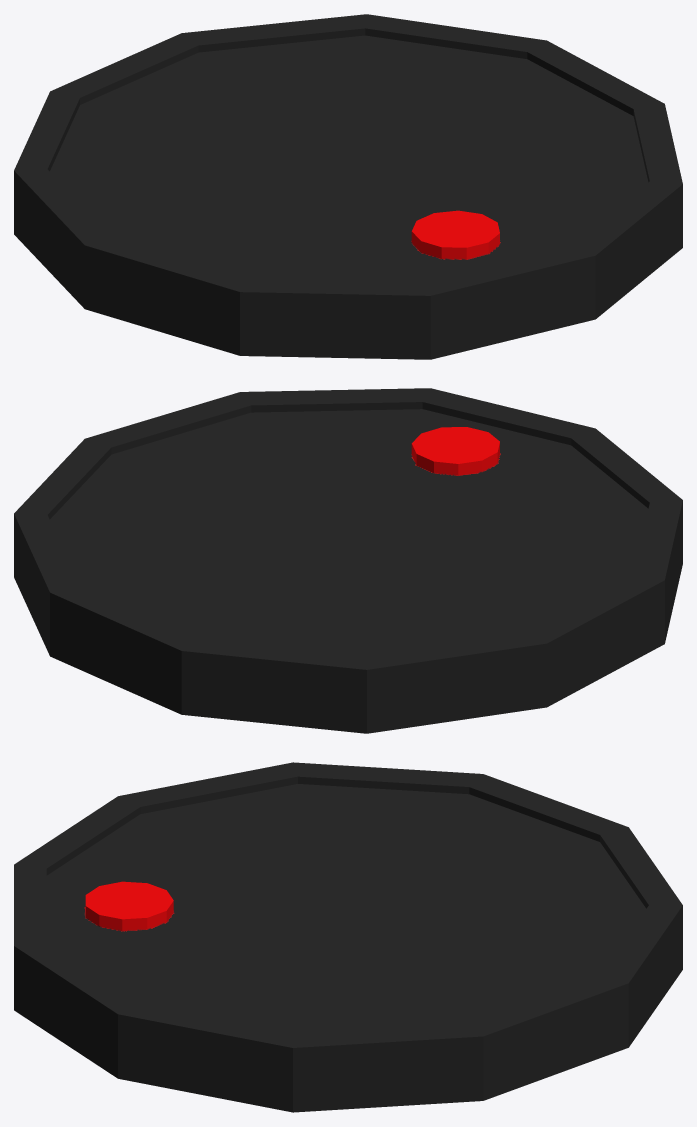
The model's file is VACoomRED.glb.
3 renders of one model, top to bottom at view 1: azimuth 30°, elevation 25°; view 2: azimuth 150°, elevation 25°; view 3: azimuth 270°, elevation 25°, orthographic.
Visible parts, largest first — view 1: Circle; view 2: Circle; view 3: Circle.
Boxes of the visible parts, left/top/right/bottom form: Circle: left=14, top=14, right=682, bottom=359; Circle: left=14, top=388, right=682, bottom=733; Circle: left=14, top=762, right=682, bottom=1112.
Bounding box in the file's own units: 1.98 × 0.2238 × 1.96.
1 material, 1 textured.
